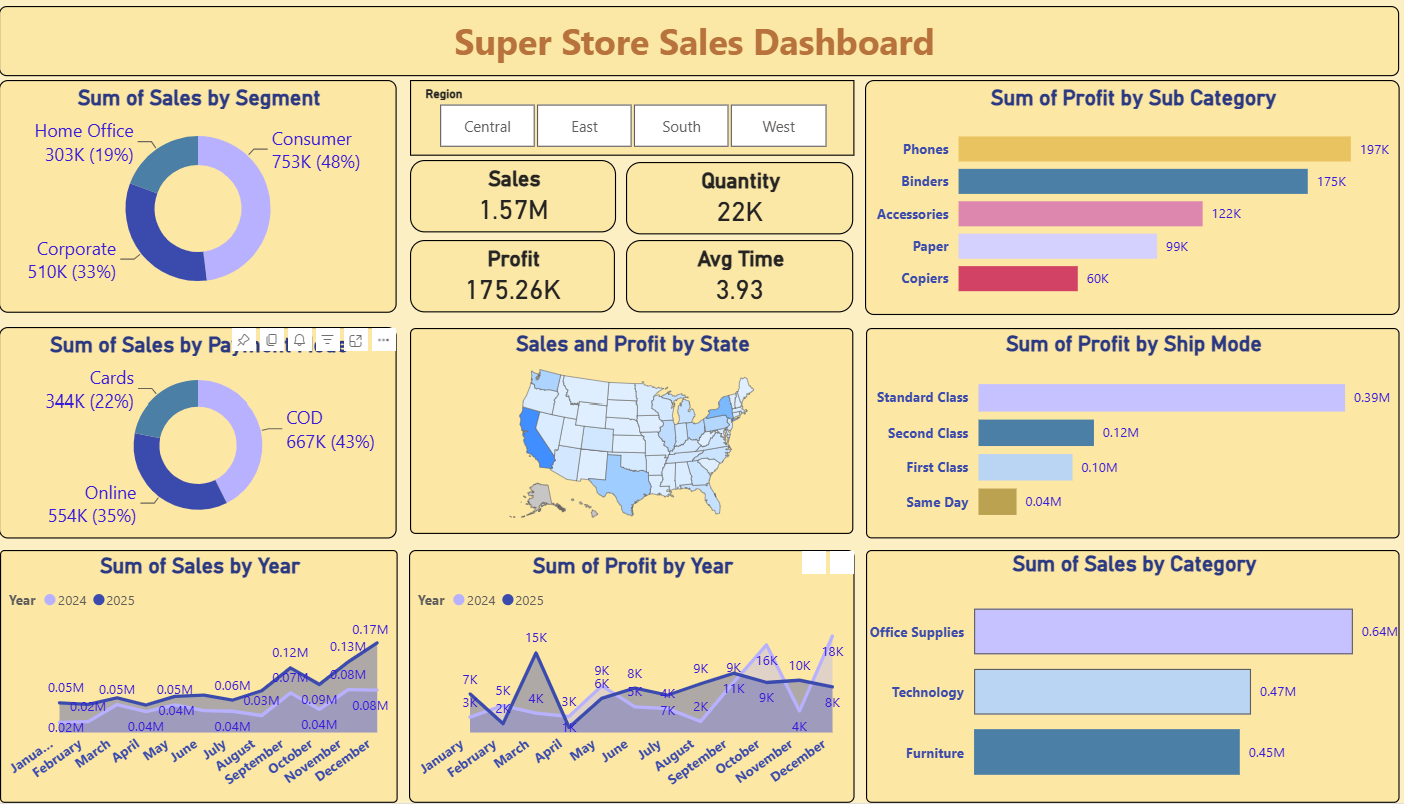

What the dashboard file says about the page in this screenshot:
{"tool":"powerbi","page":{"name":"Page 1","canvas":[1280,720],"ordinal":0},"visuals":[{"type":"clusteredBarChart","fields":{"Category":["Sheet1.Category"],"Y":["Sum(Sheet1.Sales)"]},"box":[789.5,493,479.1,226.7],"z":0},{"type":"clusteredBarChart","title":"Sum of Profit by Ship Mode","fields":{"Category":["Sheet1.Ship Mode"],"Y":["Sum(Sheet1.Sales)"]},"box":[789.5,294.2,479.1,188.4],"z":1000},{"type":"areaChart","title":"Sum of Sales by Year","fields":{"Category":["Sheet1.Order Date.Variation.Date Hierarchy.Month","Sheet1.Order Date.Variation.Date Hierarchy.Day"],"Series":["Sheet1.Order Date.Variation.Date Hierarchy.Year"],"Y":["Sum(Sheet1.Sales)"]},"box":[11.6,493,357,226.7],"z":2000},{"type":"areaChart","title":"Sum of Profit by Year","fields":{"Category":["Sheet1.Order Date.Variation.Date Hierarchy.Month"],"Series":["Sheet1.Order Date.Variation.Date Hierarchy.Year"],"Y":["Sum(Sheet1.Profit)"]},"box":[379.1,492.5,400,226.9],"z":3000},{"type":"shapeMap","title":"Sales and Profit by State","fields":{"Category":["Sheet1.State"],"Value":["Sum(Sheet1.Sales)"]},"box":[379.3,294.8,398.3,184.5],"z":4000},{"type":"donutChart","fields":{"Category":["Sheet1.Segment"],"Y":["Sum(Sheet1.Sales)"]},"box":[11.2,71.5,357.3,208.8],"z":5000},{"type":"donutChart","fields":{"Category":["Sheet1.Payment Mode"],"Y":["Sum(Sheet1.Sales)"]},"box":[11.2,293.7,357.3,188.7],"z":6000},{"type":"card","title":"Sales ","fields":{"Values":["Sum(Sheet1.Sales)"]},"box":[379.7,144,185.4,64.8],"z":7000},{"type":"card","title":"Quantity","fields":{"Values":["Sum(Sheet1.Quantity)"]},"box":[573.9,145.2,204.3,64.8],"z":8000},{"type":"card","title":"Profit ","fields":{"Values":["Sum(Sheet1.Profit)"]},"box":[379.7,215.5,184.2,64.8],"z":9000},{"type":"card","title":"Avg Time","fields":{"Values":["Avg(Sheet1.Avgdelivery)"]},"box":[573.9,215.5,204.3,64.8],"z":10000},{"type":"clusteredBarChart","title":"Sum of Profit by Sub Category","fields":{"Category":["Sheet1.Sub-Category"],"Y":["Sum(Sheet1.Sales)"]},"box":[788.3,71.5,480.2,211],"z":11000},{"type":"textbox","box":[11.2,5.6,1257.3,62.5],"z":12000},{"type":"slicer","fields":{"Values":["Sheet1.Region"]},"box":[379.7,71.5,398.6,68.1],"z":13000}]}

Visuals, with their boxes in screenshot pixels (x1, y1, x2, y2), scaled from the page's 1280x720 canvas onto the 1404x804 screenshot:
clusteredBarChart - Sheet1.Category x Sum(Sheet1.Sales): detection(866, 551, 1391, 803)
"Sum of Profit by Ship Mode" clusteredBarChart: detection(866, 329, 1391, 539)
"Sum of Sales by Year" areaChart: detection(13, 551, 404, 803)
"Sum of Profit by Year" areaChart: detection(416, 550, 855, 803)
"Sales and Profit by State" shapeMap: detection(416, 329, 853, 535)
donutChart - Sheet1.Segment x Sum(Sheet1.Sales): detection(12, 80, 404, 313)
donutChart - Sheet1.Payment Mode x Sum(Sheet1.Sales): detection(12, 328, 404, 539)
"Sales " card: detection(416, 161, 620, 233)
"Quantity" card: detection(629, 162, 854, 234)
"Profit " card: detection(416, 241, 619, 313)
"Avg Time" card: detection(629, 241, 854, 313)
"Sum of Profit by Sub Category" clusteredBarChart: detection(865, 80, 1391, 315)
textbox: detection(12, 6, 1391, 76)
slicer - Sheet1.Region: detection(416, 80, 854, 156)
